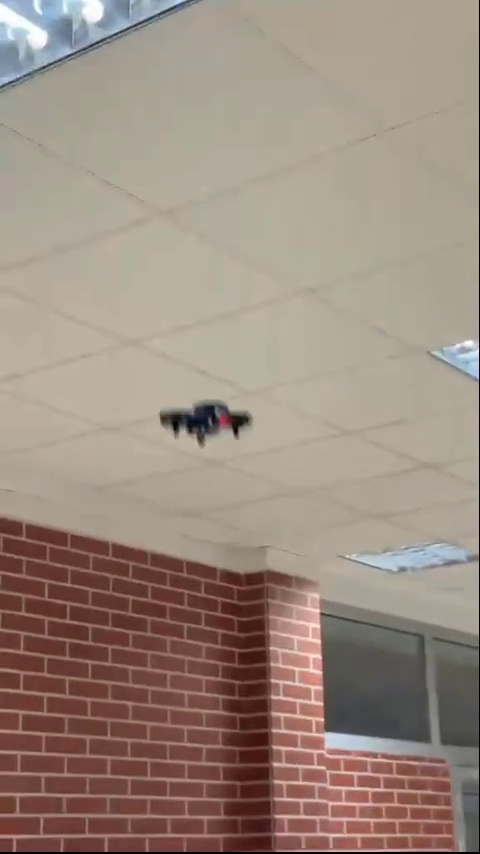drone: (156, 397, 251, 443)
